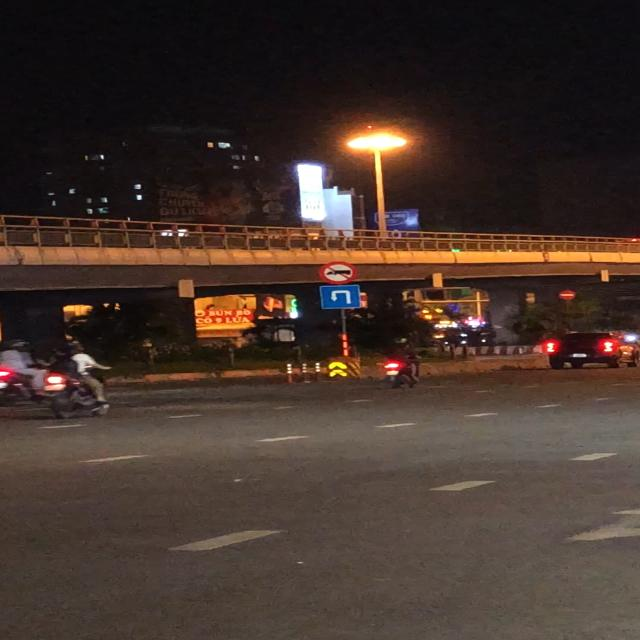Bien bao cam xe so-mi ro-mooc: (317, 260, 358, 286)
